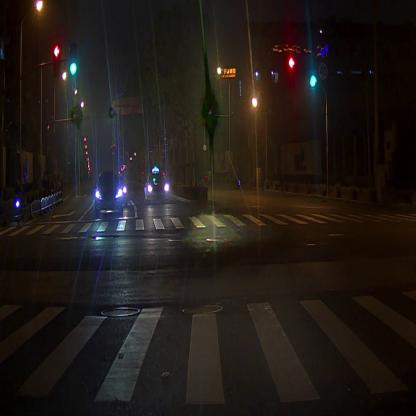Green Light: (70, 41, 78, 78), (309, 51, 317, 88)
